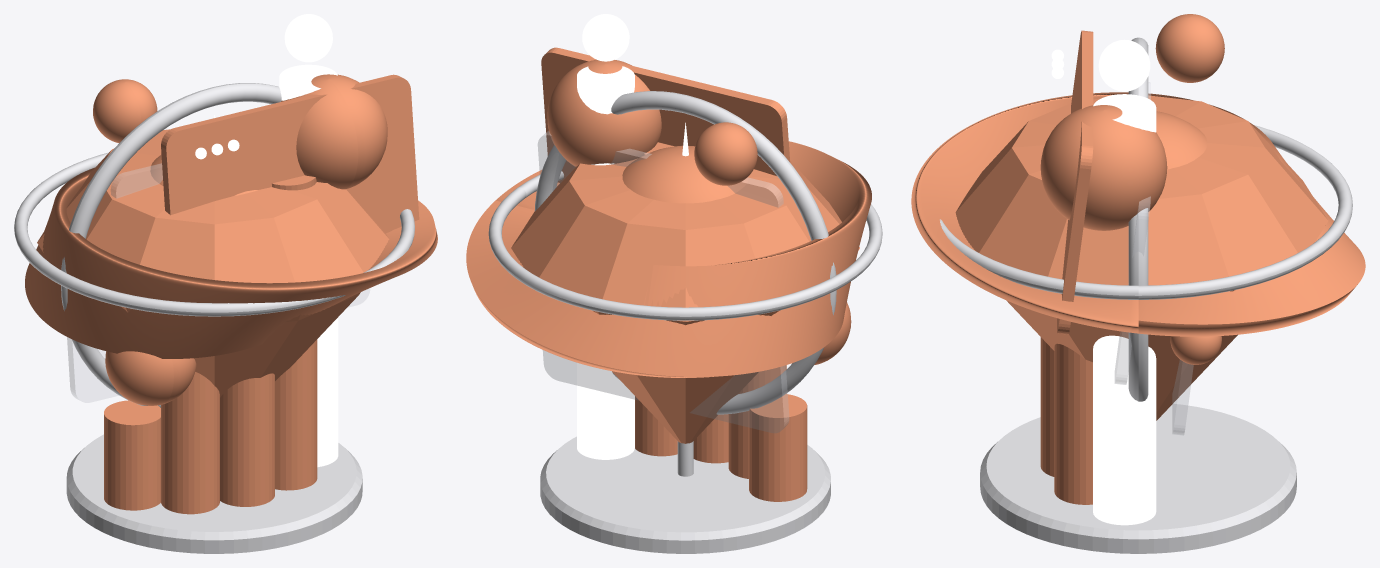
File: veltrix-services.glb
The picture shows the model from 3 angles, left to right: view 1: azimuth 30°, elevation 25°; view 2: azimuth 150°, elevation 25°; view 3: azimuth 270°, elevation 25°; orthographic projection. The views are drawn at different scales.
Visible parts, largest first — view 1: performance_ads, brand_identity, content_copy, social_media, web_design, strategy; view 2: brand_identity, performance_ads, content_copy, social_media, web_design, strategy; view 3: brand_identity, performance_ads, social_media, content_copy, web_design, strategy.
Part boxes in pixels (box(x1,y1,x2,y2)): performance_ads: box(66, 14, 362, 553); brand_identity: box(37, 129, 389, 517); content_copy: box(25, 167, 437, 358); social_media: box(14, 74, 414, 405); web_design: box(67, 74, 419, 402); strategy: box(61, 83, 281, 407); brand_identity: box(511, 158, 859, 518); performance_ads: box(540, 14, 830, 553); content_copy: box(466, 141, 871, 377); social_media: box(488, 59, 882, 364); web_design: box(538, 47, 790, 432); strategy: box(534, 91, 836, 476); brand_identity: box(955, 95, 1328, 514); performance_ads: box(980, 39, 1296, 553); social_media: box(940, 14, 1352, 364); content_copy: box(911, 92, 1365, 336); web_design: box(1051, 30, 1193, 435); strategy: box(1128, 37, 1148, 401).
Bounding box in the file's own units: 1.57 × 1.88 × 1.58.
